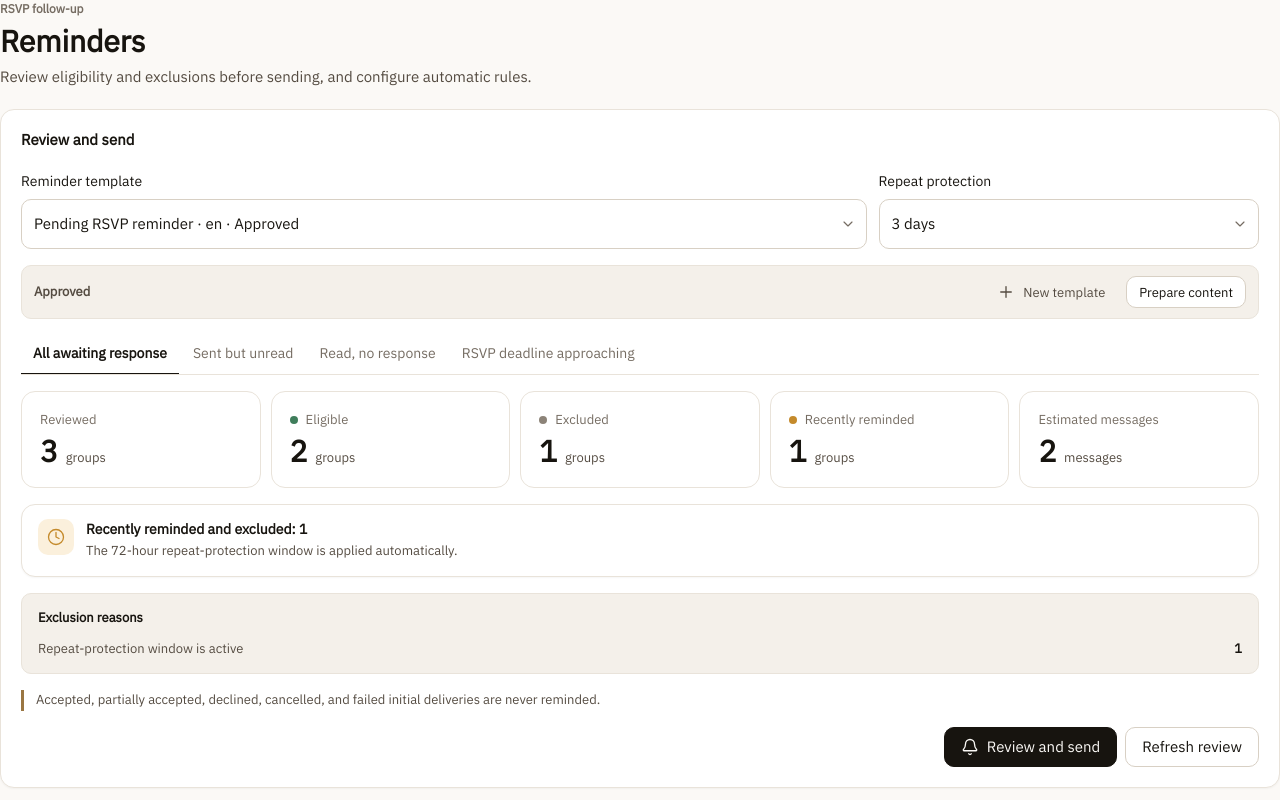
Scenario: event reminders › shows explainable cooldown exclusions and confirms an idempotent send
The image size is (1280, 800).
Expected: the text "Recently reminded and excluded: 1" is shown, left=86, top=519, right=307, bottom=540
Expected: the text "Repeat-protection window is active" is shown, left=38, top=639, right=243, bottom=660
What coordinates should you click on to do the following:
click the button "Review and send"
I would click on:
 (1030, 747)
Its box is left=944, top=727, right=1117, bottom=767.
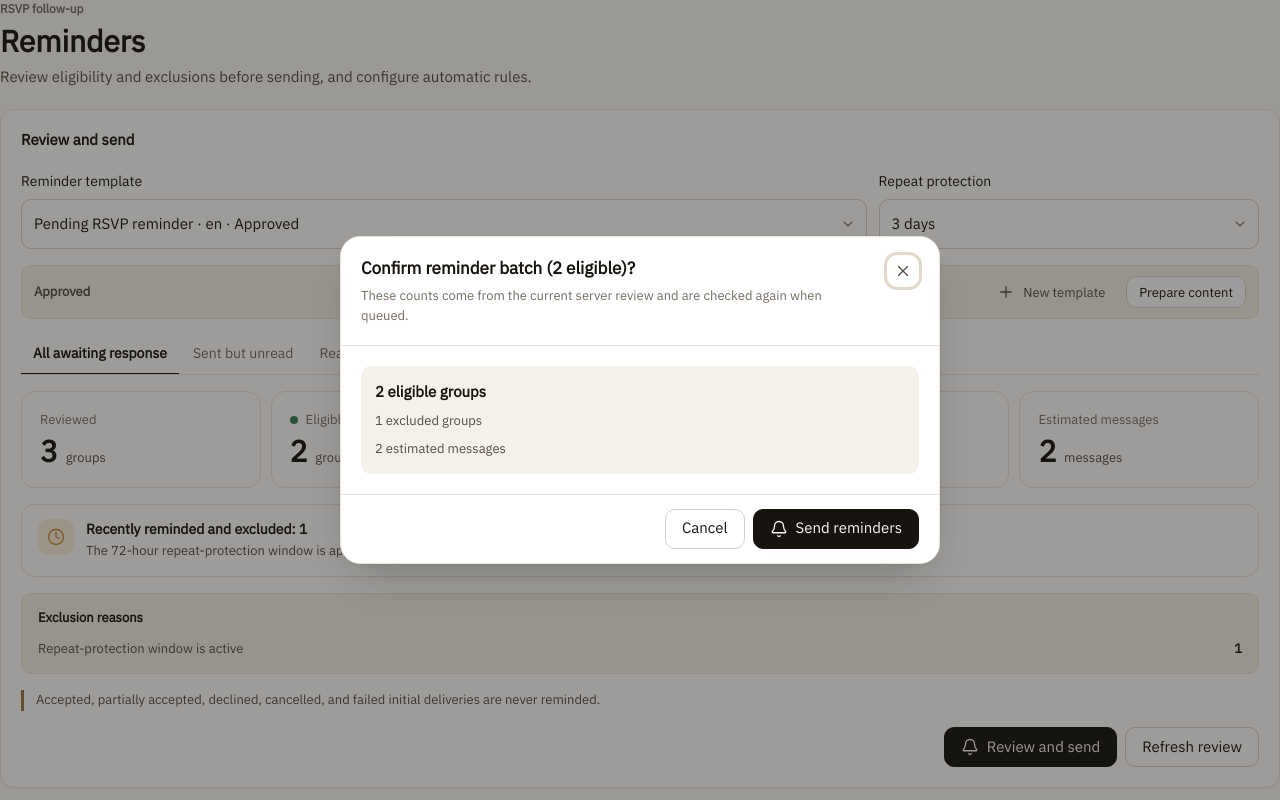
Now the heading "Confirm reminder batch (2 eligible)?" is shown, box left=361, top=256, right=635, bottom=281
What coordinates should you click on to do the following:
click the button "Send reminders"
I would click on:
 (836, 529)
Its box is left=752, top=509, right=919, bottom=549.
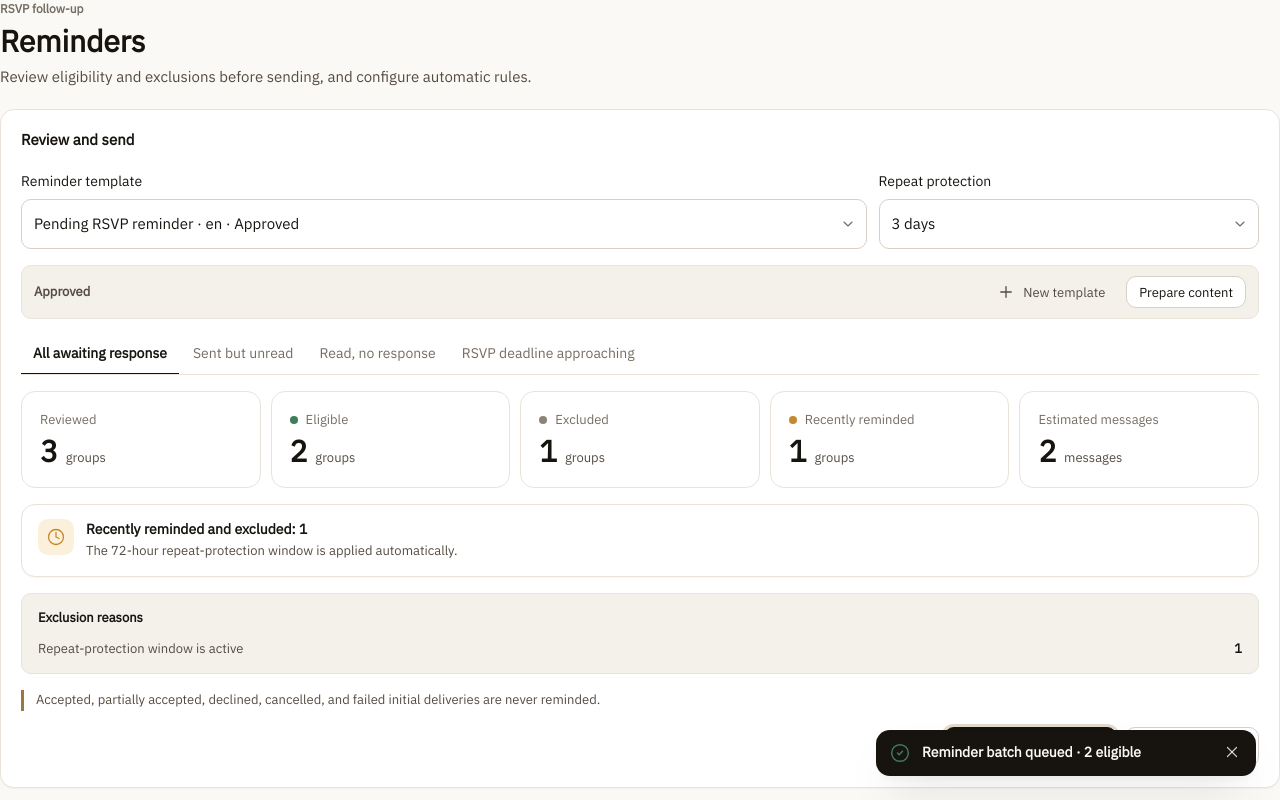
Now the text "Reminder batch queued · 2 eligible" is shown, box left=922, top=742, right=1141, bottom=763
